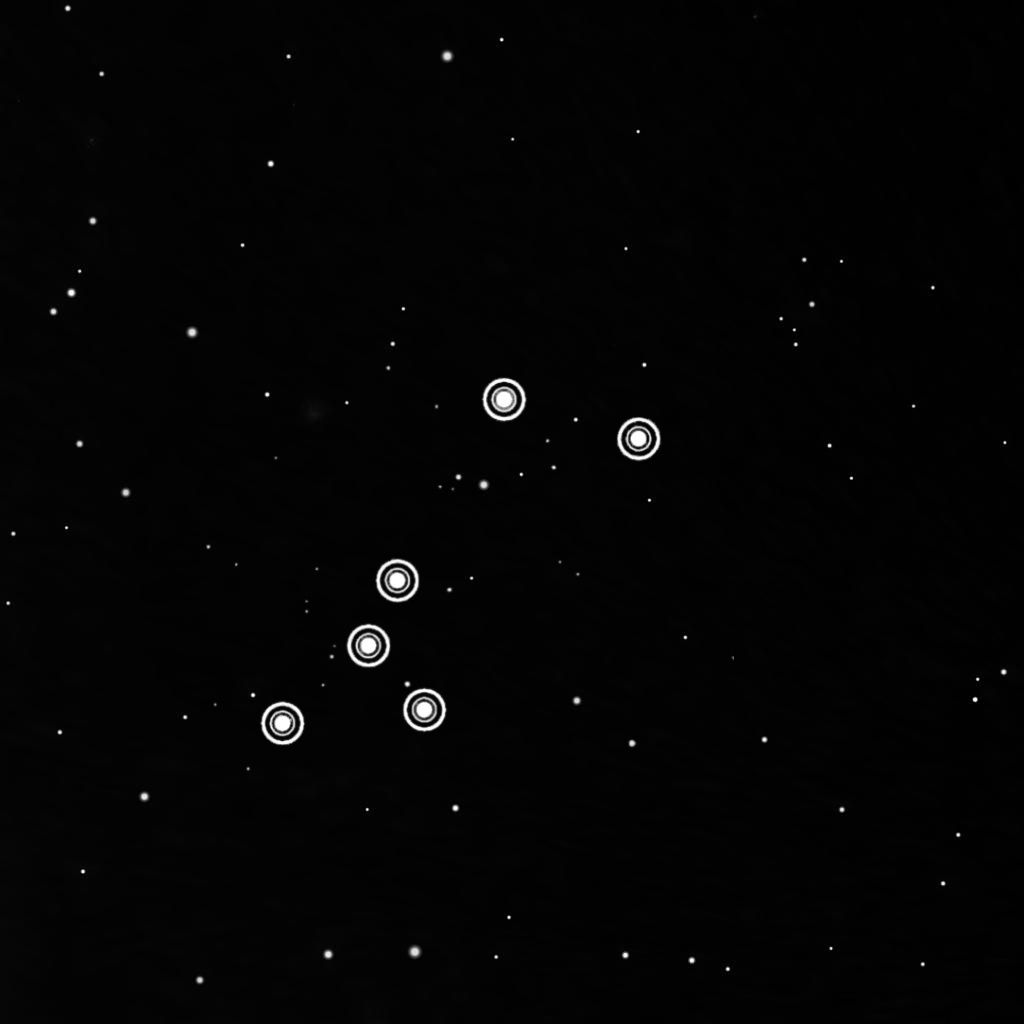canis_major: (247, 367, 669, 758)
